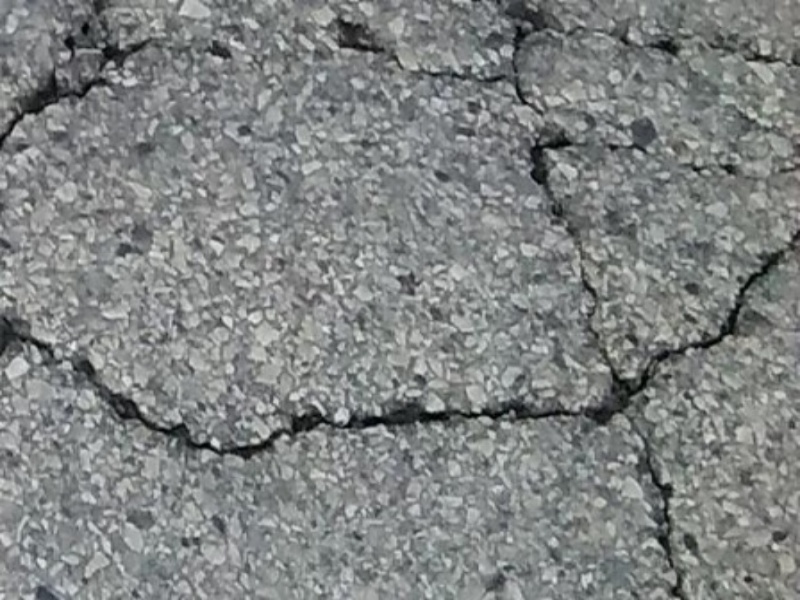crack: (1, 296, 511, 462), (524, 133, 689, 594), (517, 219, 797, 442), (308, 12, 786, 102), (1, 12, 234, 138)
